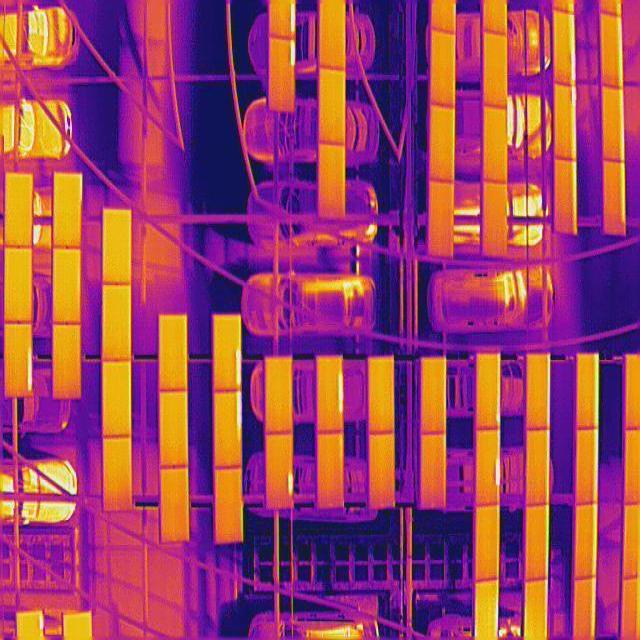Cell: (476, 352, 500, 428)
No-Anomaly: (159, 468, 191, 542), (53, 172, 84, 248), (102, 208, 132, 284), (159, 390, 189, 466), (103, 436, 133, 512), (215, 469, 245, 545), (318, 66, 346, 146), (318, 141, 346, 220), (4, 246, 33, 322), (103, 360, 132, 436), (103, 285, 132, 360), (159, 315, 188, 390), (5, 172, 34, 246), (53, 324, 82, 398), (53, 248, 81, 324), (428, 179, 454, 260), (265, 357, 293, 432), (369, 432, 395, 512), (431, 28, 457, 108), (483, 30, 509, 110), (317, 432, 344, 508), (318, 0, 347, 70), (368, 358, 395, 432), (482, 182, 508, 258), (573, 502, 599, 578), (429, 104, 454, 182), (421, 434, 446, 511), (421, 358, 446, 434), (475, 505, 500, 580), (603, 158, 627, 236), (483, 106, 507, 182), (526, 355, 550, 430), (576, 430, 600, 504), (601, 11, 623, 89), (577, 355, 600, 429), (602, 86, 624, 162), (527, 430, 549, 505), (527, 506, 549, 580), (572, 577, 597, 640), (475, 579, 500, 640), (525, 580, 549, 640)
Unclassified: (5, 322, 35, 397), (265, 432, 293, 512), (213, 316, 243, 390), (214, 392, 243, 468), (267, 38, 296, 114), (317, 358, 344, 432), (476, 429, 500, 505), (555, 156, 578, 235), (555, 82, 577, 160), (555, 10, 576, 86)
